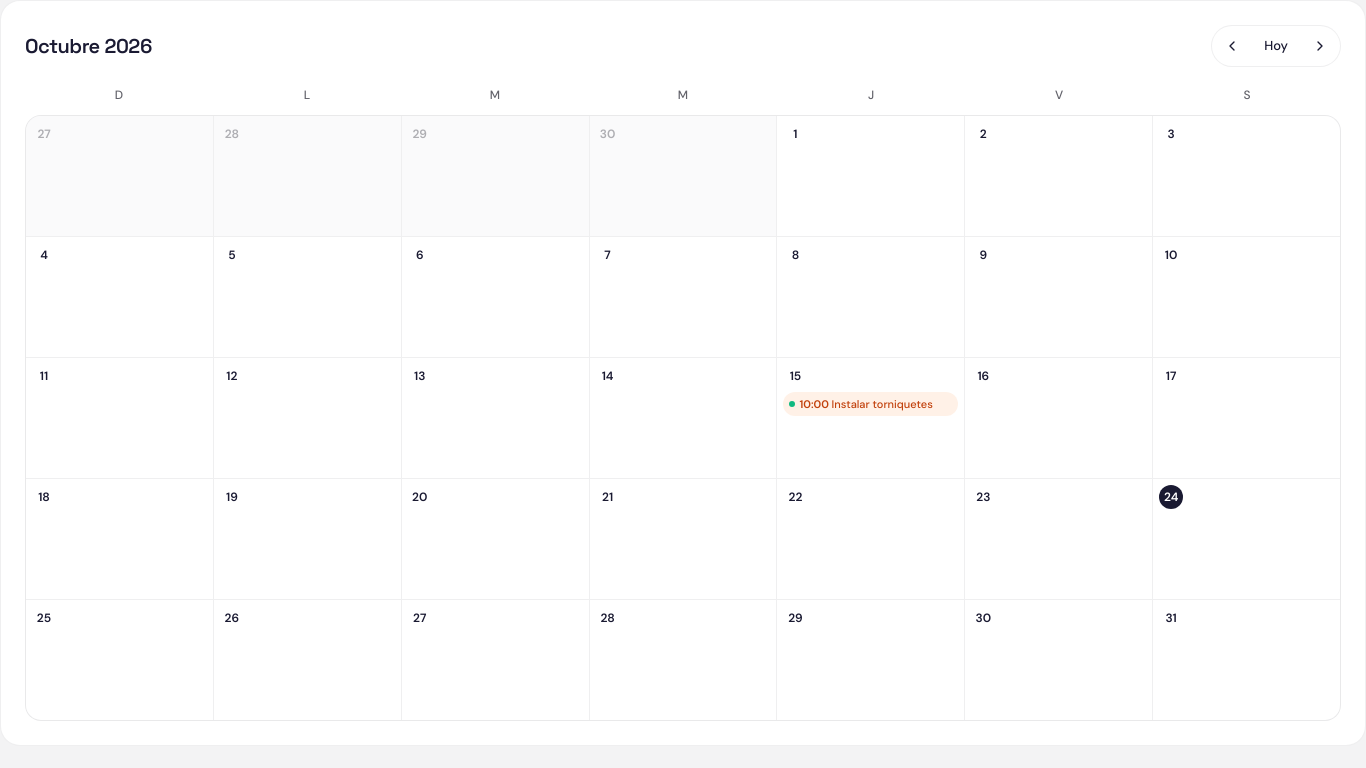
TeamCalendar › un evento terminado no se puede seguir avanzando
The image size is (1366, 768).
Click the button "15 10:00 Instalar torniquetes" at (871, 418), box x1=777 y1=358 x2=964 y2=478
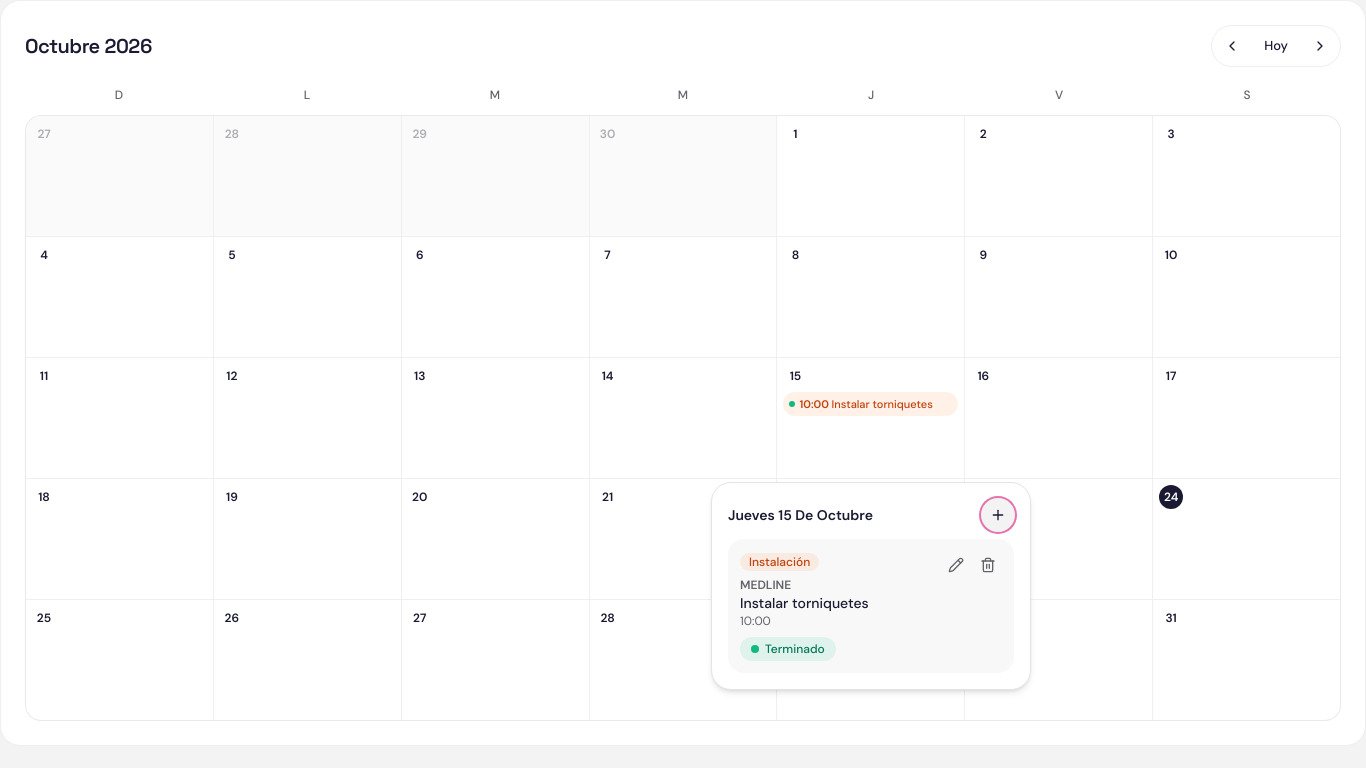
Check: the button "Terminado" is disabled, box x1=740 y1=637 x2=836 y2=661
